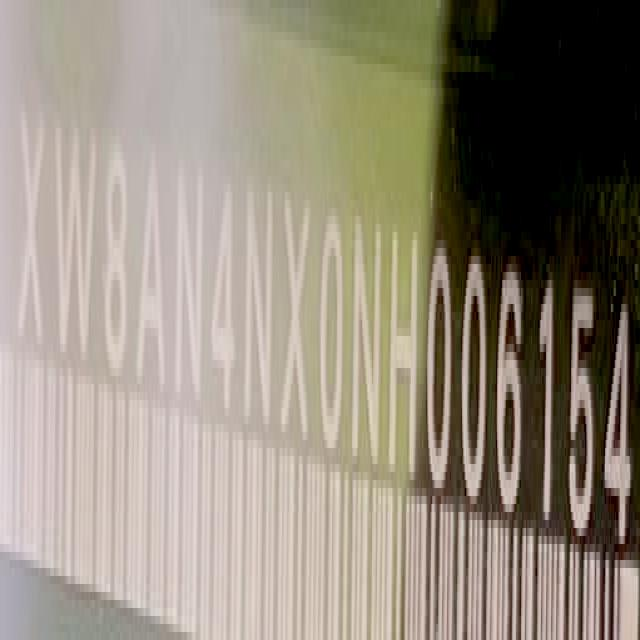0: (426, 232, 454, 498), (462, 242, 490, 507), (319, 198, 346, 462)
1: (535, 264, 557, 532)
4: (605, 282, 635, 559), (211, 164, 238, 424)
5: (570, 272, 598, 546)
6: (498, 252, 528, 520)
8: (105, 138, 131, 387)
A: (138, 145, 168, 400)
H: (392, 212, 422, 483)
N: (352, 212, 386, 473), (176, 152, 208, 413), (243, 175, 274, 441)
W: (53, 115, 97, 377)
X: (283, 181, 315, 451), (18, 100, 47, 358)
